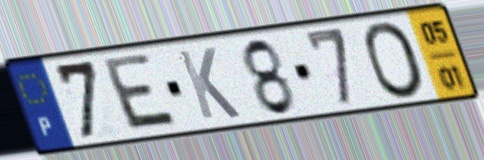7: (301, 25, 357, 109), (53, 58, 103, 143)
8: (238, 33, 297, 120)
E: (100, 51, 184, 134)
K: (173, 45, 244, 122)
O: (360, 18, 430, 101)
